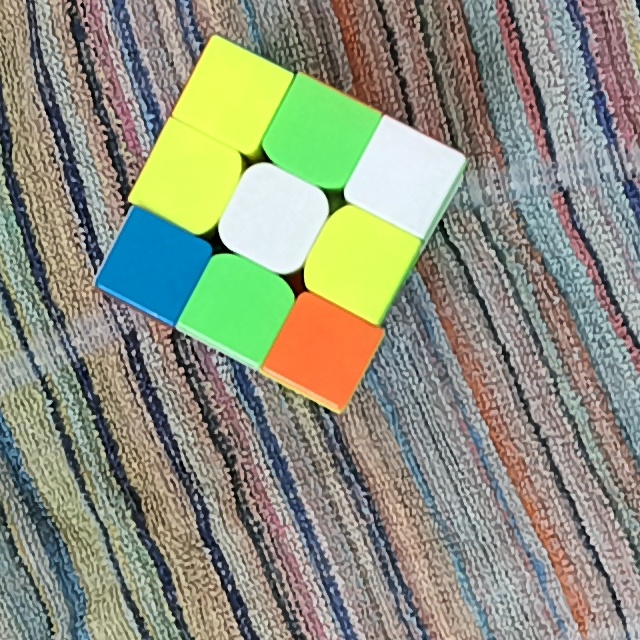tile: (291, 315, 357, 384), (372, 143, 437, 212), (325, 228, 391, 295), (239, 187, 309, 248), (204, 274, 275, 334), (286, 105, 351, 170), (122, 233, 187, 297), (198, 68, 262, 129), (159, 147, 222, 208)
